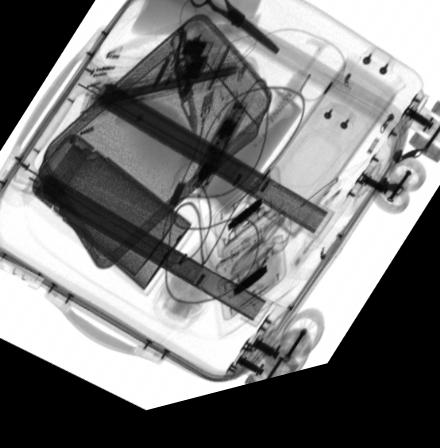Knife: (169, 42, 196, 153)
Scissors: (174, 0, 278, 70)
